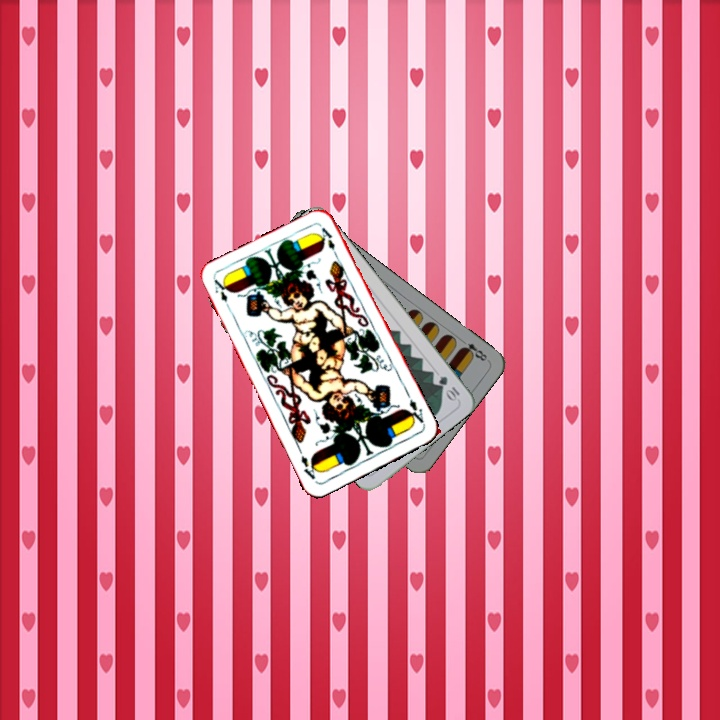E8: (456, 335, 491, 364)
EA: (210, 275, 234, 314), (403, 395, 427, 428)
G10: (435, 372, 462, 403)
